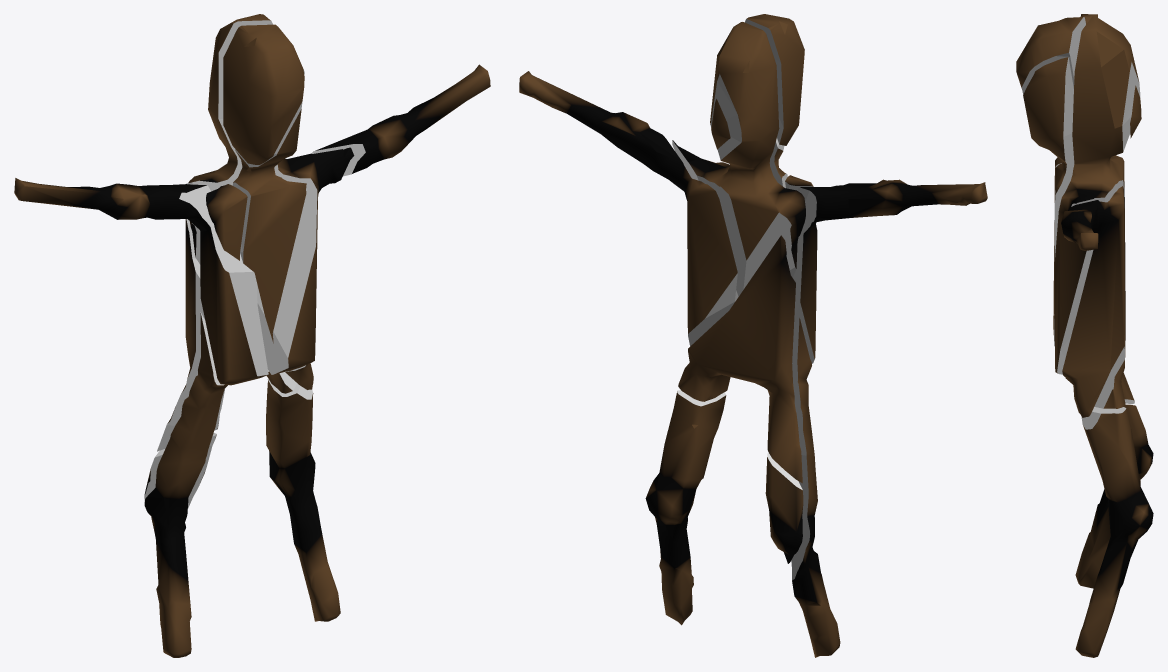
The model's file is Robots and Humanoids(2).glb.
3 views of the same model, side by side, from view 1: azimuth 30°, elevation 25°; view 2: azimuth 150°, elevation 25°; view 3: azimuth 270°, elevation 25° (orthographic). The views are drawn at different scales.
Parts seen in each view (by area): view 1: Root.004, Root.009, Root, Root.002, Root.006, Root.007, Root.003, Root.005, Root.008, Root.001; view 2: Root.009, Root.005, Root.003, Root.006, Root.004, Root, Root.002, Root.001; view 3: Root.009, Root.003, Root.006, Root.007, Root.002, Root, Root.005, Root.001, Root.010, Root.004.
Part boxes in pixels (x1,y1,x2,y2): Root.004: [14, 178, 268, 385]; Root.009: [186, 14, 354, 374]; Root: [144, 312, 227, 657]; Root.002: [223, 24, 304, 164]; Root.006: [266, 379, 340, 621]; Root.007: [232, 69, 306, 343]; Root.003: [285, 64, 490, 389]; Root.005: [157, 219, 296, 451]; Root.008: [206, 184, 247, 260]; Root.001: [144, 433, 216, 508]; Root.009: [672, 22, 805, 301]; Root.005: [678, 235, 802, 483]; Root.003: [519, 71, 737, 346]; Root.006: [645, 390, 726, 625]; Root.004: [793, 179, 987, 363]; Root: [791, 317, 840, 657]; Root.002: [745, 14, 804, 145]; Root.001: [765, 452, 803, 563]; Root.009: [1054, 16, 1140, 374]; Root.003: [1061, 186, 1124, 417]; Root.006: [1075, 407, 1153, 657]; Root.007: [1023, 57, 1074, 318]; Root.002: [1016, 17, 1085, 94]; Root: [1075, 489, 1110, 588]; Root.005: [1094, 181, 1134, 408]; Root.001: [1123, 404, 1153, 479]; Root.010: [1130, 85, 1141, 138]; Root.004: [1053, 14, 1097, 346].
Bounding box in the file's own units: 3.45 × 4.34 × 0.8972.
